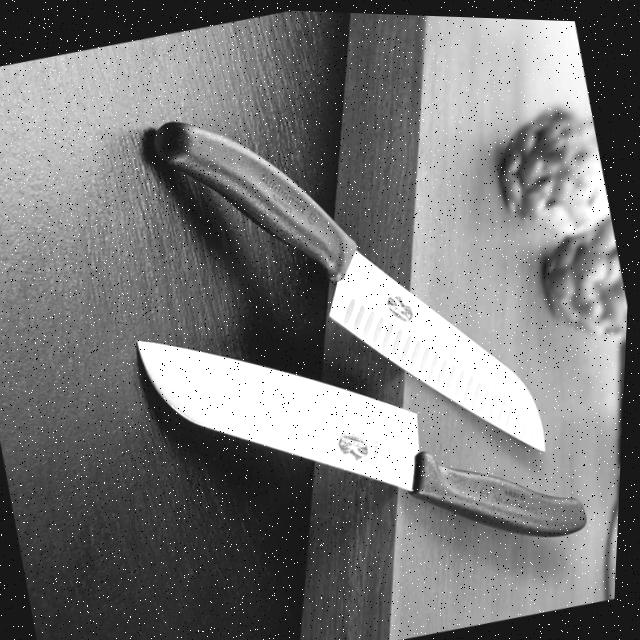knife: (129, 45, 570, 523), (125, 242, 606, 619)
